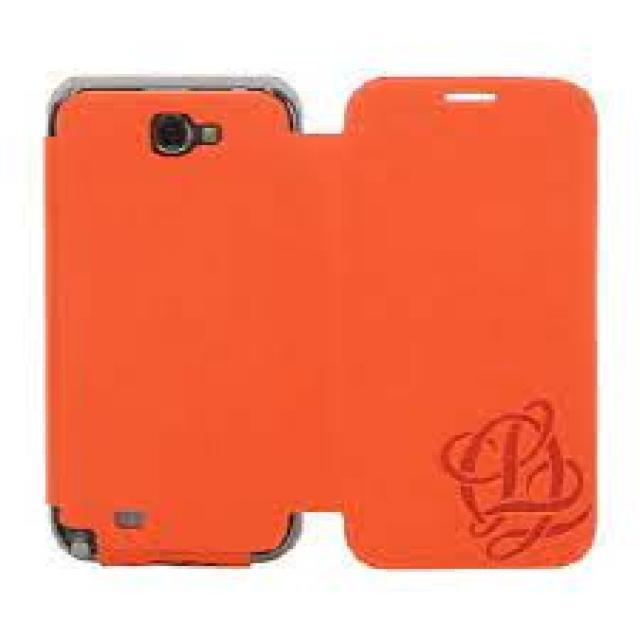lens: (147, 109, 196, 158)
phone: (41, 71, 307, 572)
